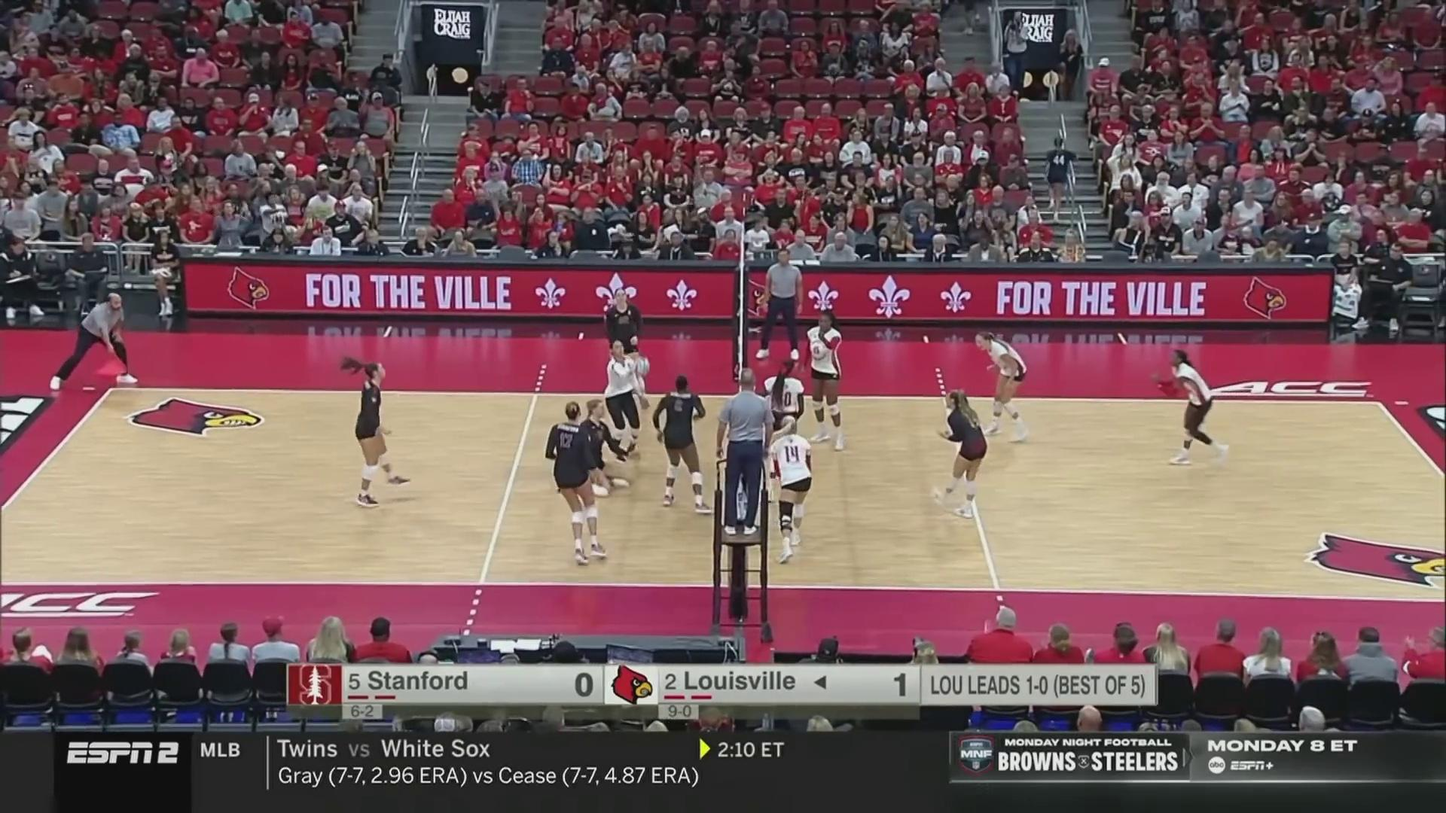player: (341, 357, 412, 504), (547, 403, 609, 563), (1151, 348, 1229, 463), (655, 378, 714, 515), (555, 400, 633, 498), (768, 414, 815, 565), (934, 388, 988, 518), (759, 360, 805, 500), (974, 333, 1032, 440), (803, 311, 845, 449), (605, 340, 649, 462), (606, 291, 647, 403)
refree: (718, 369, 773, 532), (49, 291, 135, 388), (758, 249, 806, 356)
